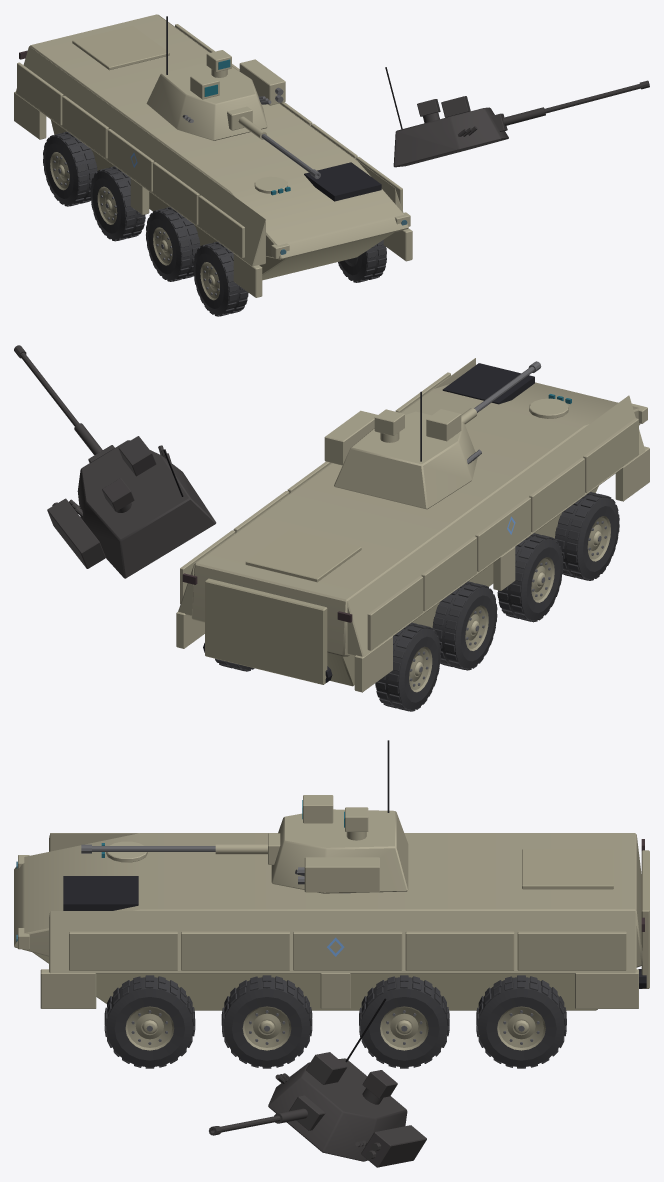
The model's file is ifv__pandur_ii_ifv.glb.
The picture shows the model from 3 angles, top to bottom: view 1: azimuth 30°, elevation 25°; view 2: azimuth 150°, elevation 25°; view 3: azimuth 270°, elevation 25°; orthographic projection. The views are drawn at different scales.
Parts seen in each view (by area): view 1: Hull_Mesh, Turret_Mesh, Wreck, Wheel_L0_Mesh, Wheel_L2_Mesh, Wheel_L1_Mesh, Wheel_L3_Mesh, Wheel_R3_Mesh, Gun_Mesh; view 2: Hull_Mesh, Wreck, Turret_Mesh, Wheel_L1_Mesh, Wheel_L3_Mesh, Wheel_L2_Mesh, Wheel_L0_Mesh, Gun_Mesh; view 3: Hull_Mesh, Wreck, Turret_Mesh, Wheel_R0_Mesh, Wheel_R2_Mesh, Wheel_R3_Mesh, Wheel_R1_Mesh, Gun_Mesh.
Part boxes in pixels (left/top/right/bottom): Hull_Mesh: left=14, top=14, right=412, bottom=297; Turret_Mesh: left=146, top=16, right=285, bottom=140; Wreck: left=54, top=67, right=649, bottom=279; Wheel_L0_Mesh: left=43, top=131, right=97, bottom=206; Wheel_L2_Mesh: left=146, top=207, right=200, bottom=281; Wheel_L1_Mesh: left=90, top=166, right=145, bottom=241; Wheel_L3_Mesh: left=193, top=241, right=248, bottom=316; Wheel_R3_Mesh: left=338, top=240, right=386, bottom=282; Gun_Mesh: left=227, top=106, right=320, bottom=178; Hull_Mesh: left=176, top=358, right=649, bottom=692; Wreck: left=14, top=345, right=603, bottom=704; Turret_Mesh: left=324, top=391, right=481, bottom=509; Wheel_L1_Mesh: left=432, top=581, right=497, bottom=670; Wheel_L3_Mesh: left=555, top=492, right=619, bottom=580; Wheel_L2_Mesh: left=497, top=533, right=563, bottom=622; Wheel_L0_Mesh: left=375, top=622, right=440, bottom=711; Gun_Mesh: left=461, top=361, right=541, bottom=424; Hull_Mesh: left=14, top=833, right=649, bottom=1010; Wreck: left=146, top=998, right=555, bottom=1167; Turret_Mesh: left=271, top=740, right=408, bottom=893; Wheel_R0_Mesh: left=476, top=975, right=566, bottom=1068; Wheel_R2_Mesh: left=221, top=975, right=312, bottom=1068; Wheel_R3_Mesh: left=104, top=975, right=195, bottom=1068; Wheel_R1_Mesh: left=359, top=975, right=449, bottom=1068; Gun_Mesh: left=81, top=833, right=280, bottom=864.
Size of what is drawn, in the model's own units: 7.96 by 3.49 by 7.6.
